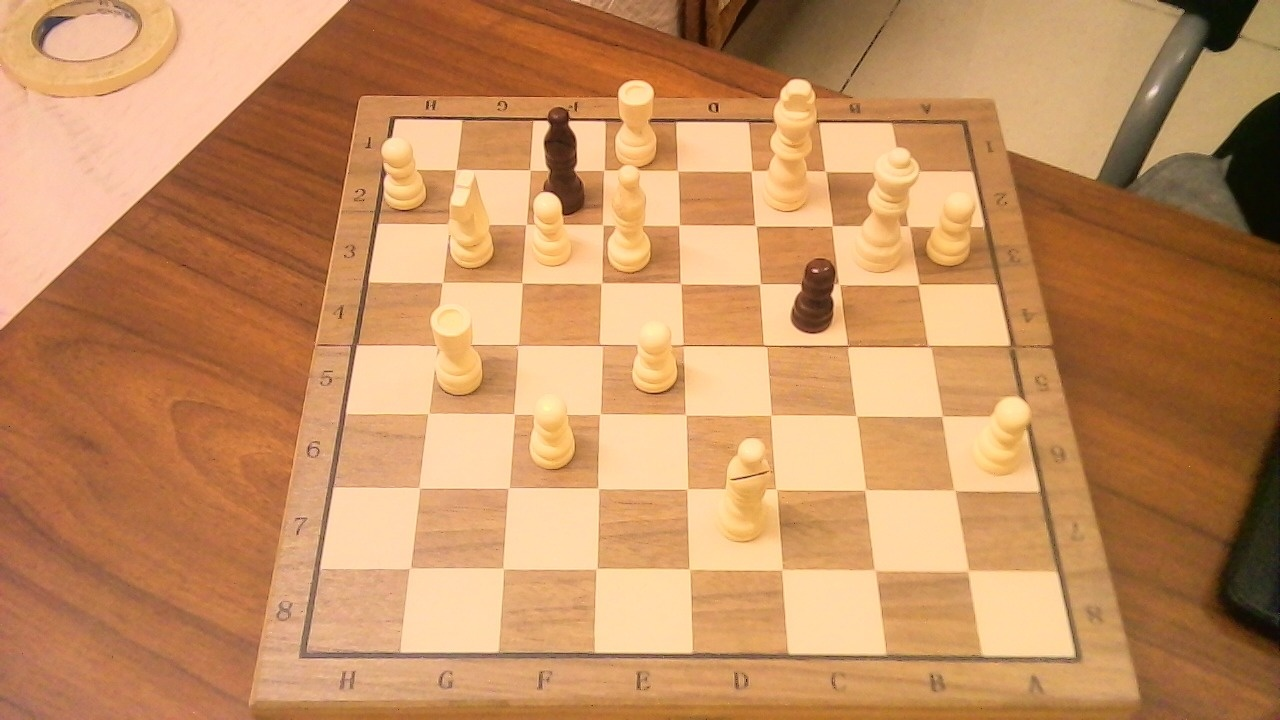B: (706, 426, 779, 548), (604, 153, 664, 277)
K: (757, 68, 826, 217)
N: (440, 157, 501, 273)
P: (965, 387, 1039, 479), (520, 384, 583, 474), (920, 182, 984, 269), (624, 310, 683, 397), (377, 128, 433, 213), (526, 182, 579, 271), (608, 158, 649, 225)
Q: (867, 137, 925, 277)
R: (426, 292, 488, 400), (608, 69, 665, 169)
b: (532, 93, 596, 221)
p: (785, 247, 847, 338)
